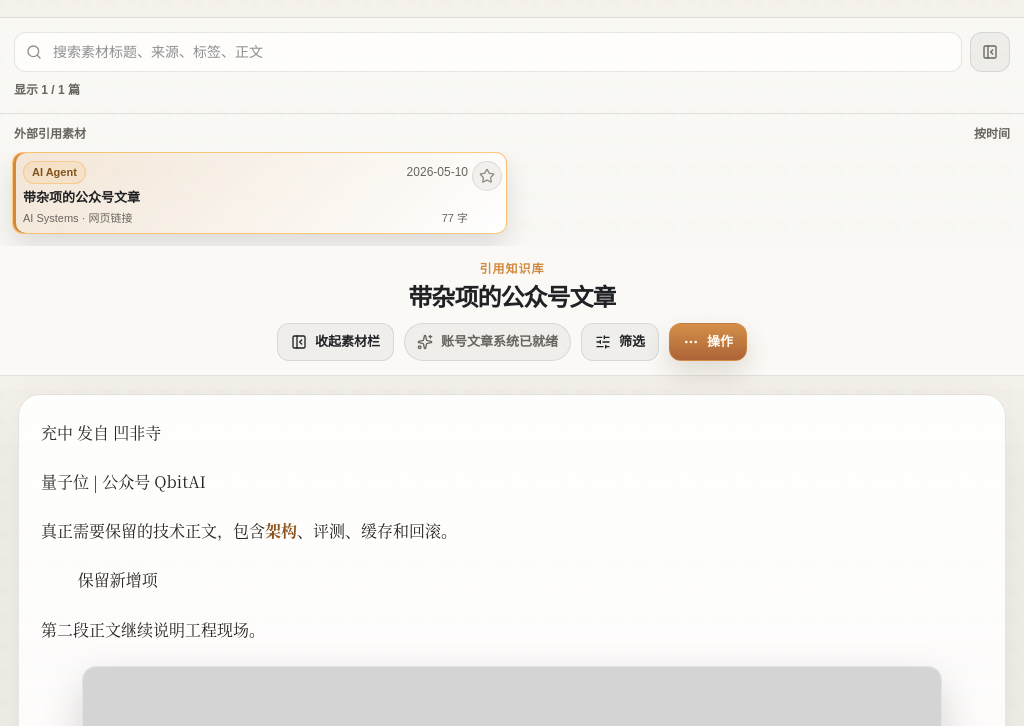
Test case: Workbench › lets users auto-crop imported boilerplate and save the article body
The image size is (1024, 726).
(page scrolled)
Click the button with aria-label "素材操作". click: (708, 342)
box: [669,323,747,361]
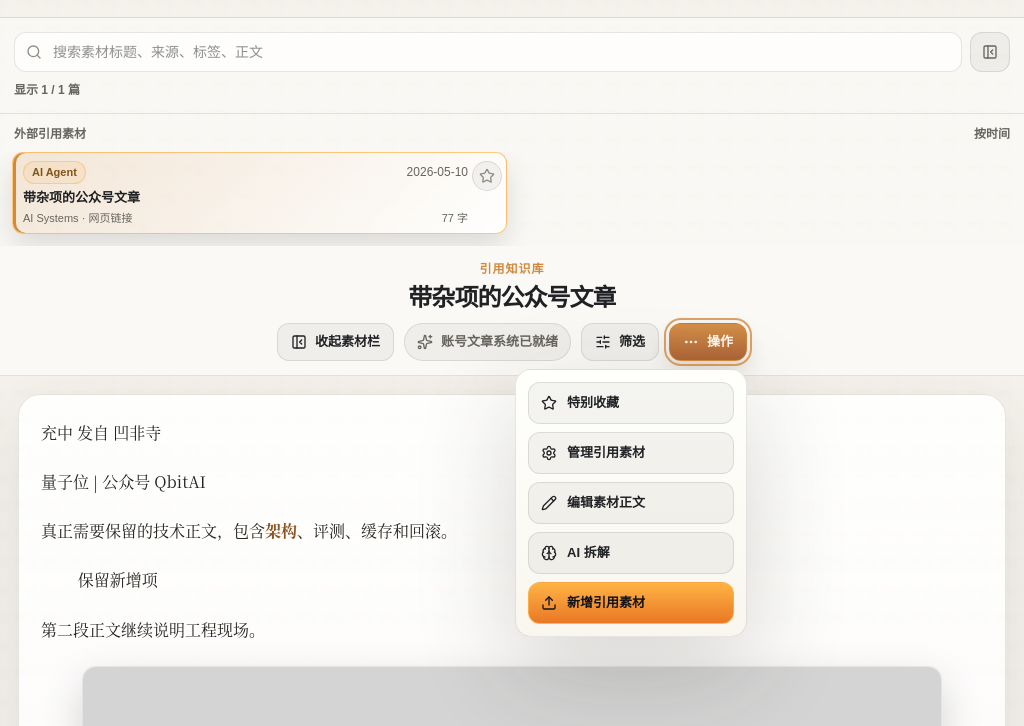
Click the button "编辑素材正文". click: (631, 503)
box: [528,482,734,524]
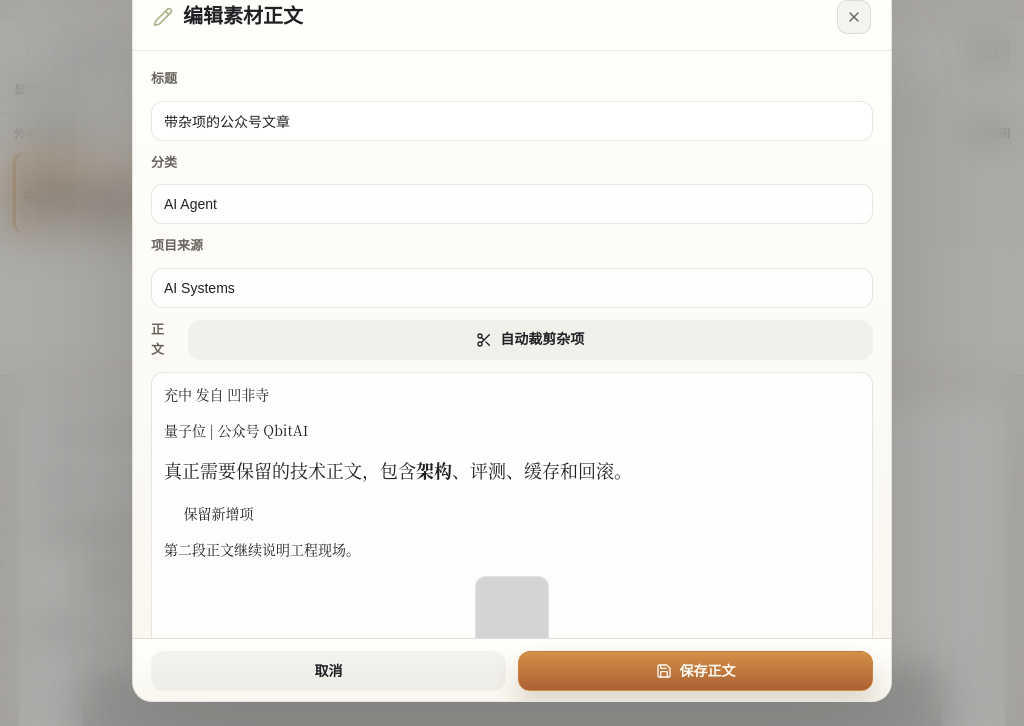
Click the button "自动裁剪杂项". click: (530, 340)
box: [188,320,873,360]
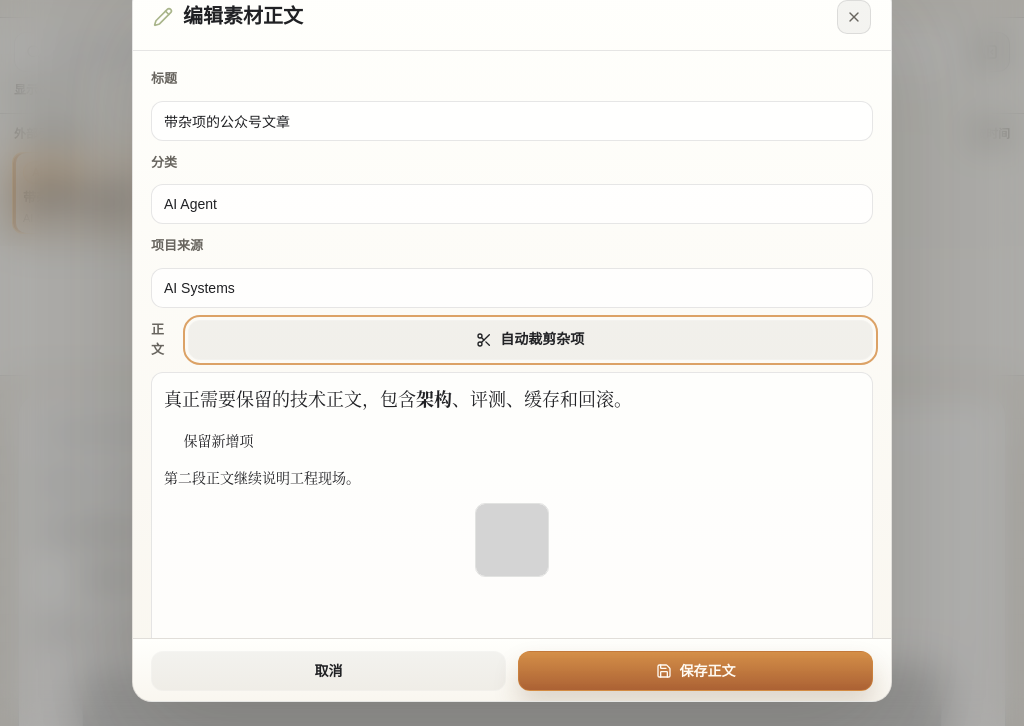
expect the field labelled "正文" shows "真正需要保留的技术正文": met, box [151,372,873,694]
expect the field labelled "正文" no longer shows "公众号 QbitAI": met
Click the button "保存正文". click: (696, 671)
box: [518,651,873,691]
(page scrolled)
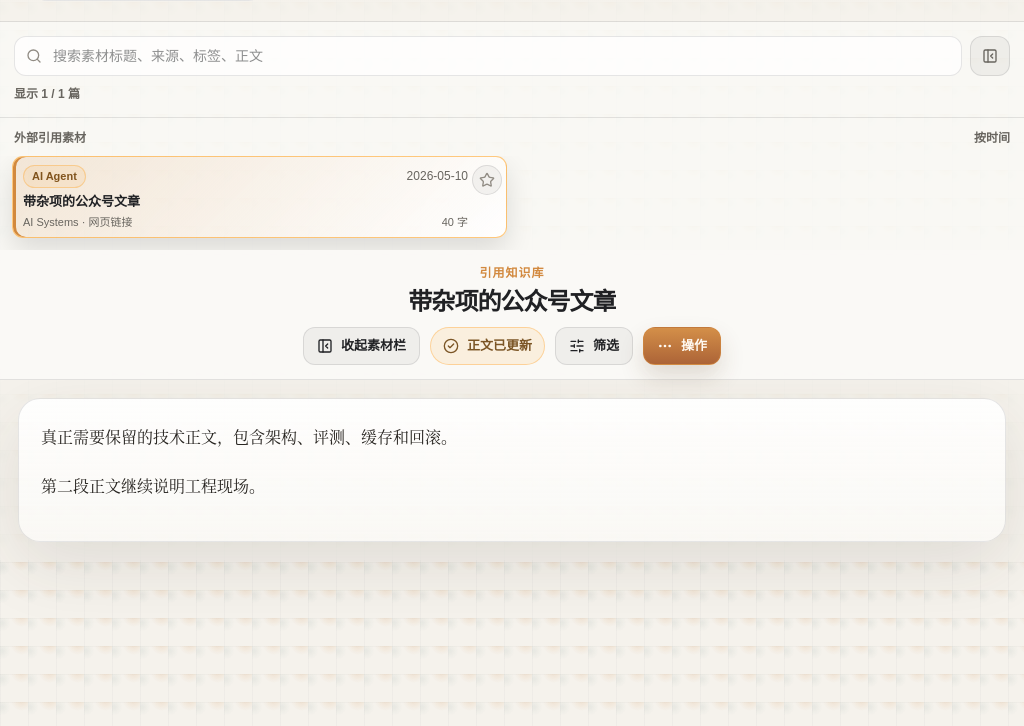
expect the text "真正需要保留的技术正文，包含架构、评测、缓存和回滚。" is shown: met, box [41,425,457,448]
expect the text "正文已更新" is shown: met, box [467,336,532,356]
